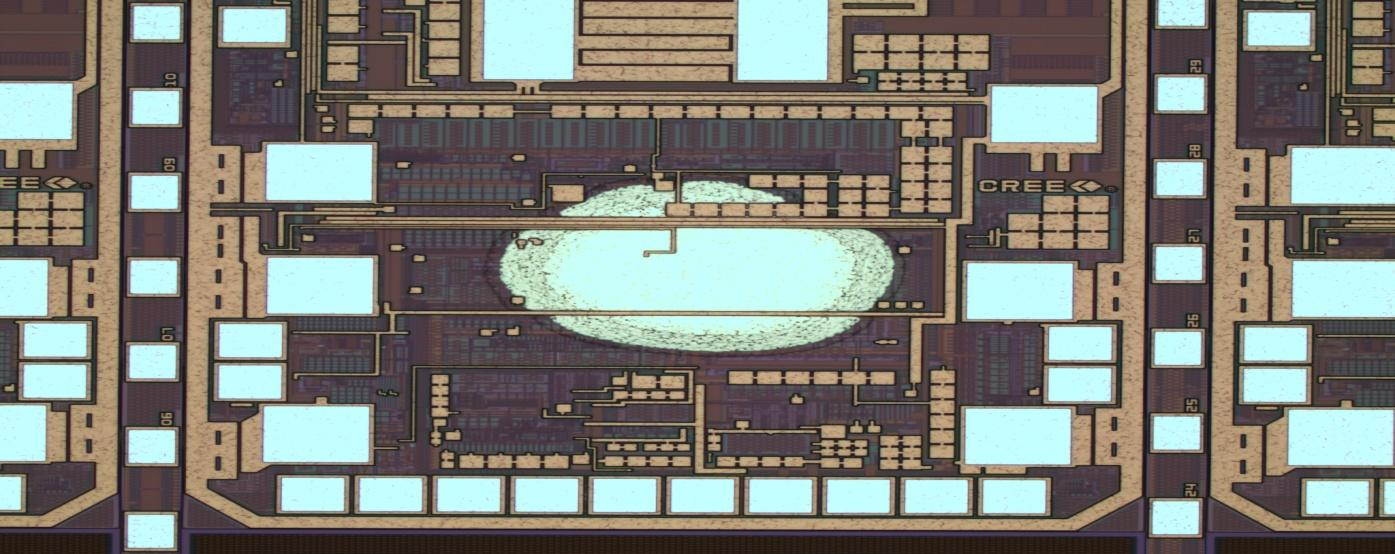BLOCK ETCH: (487, 161, 908, 383)
